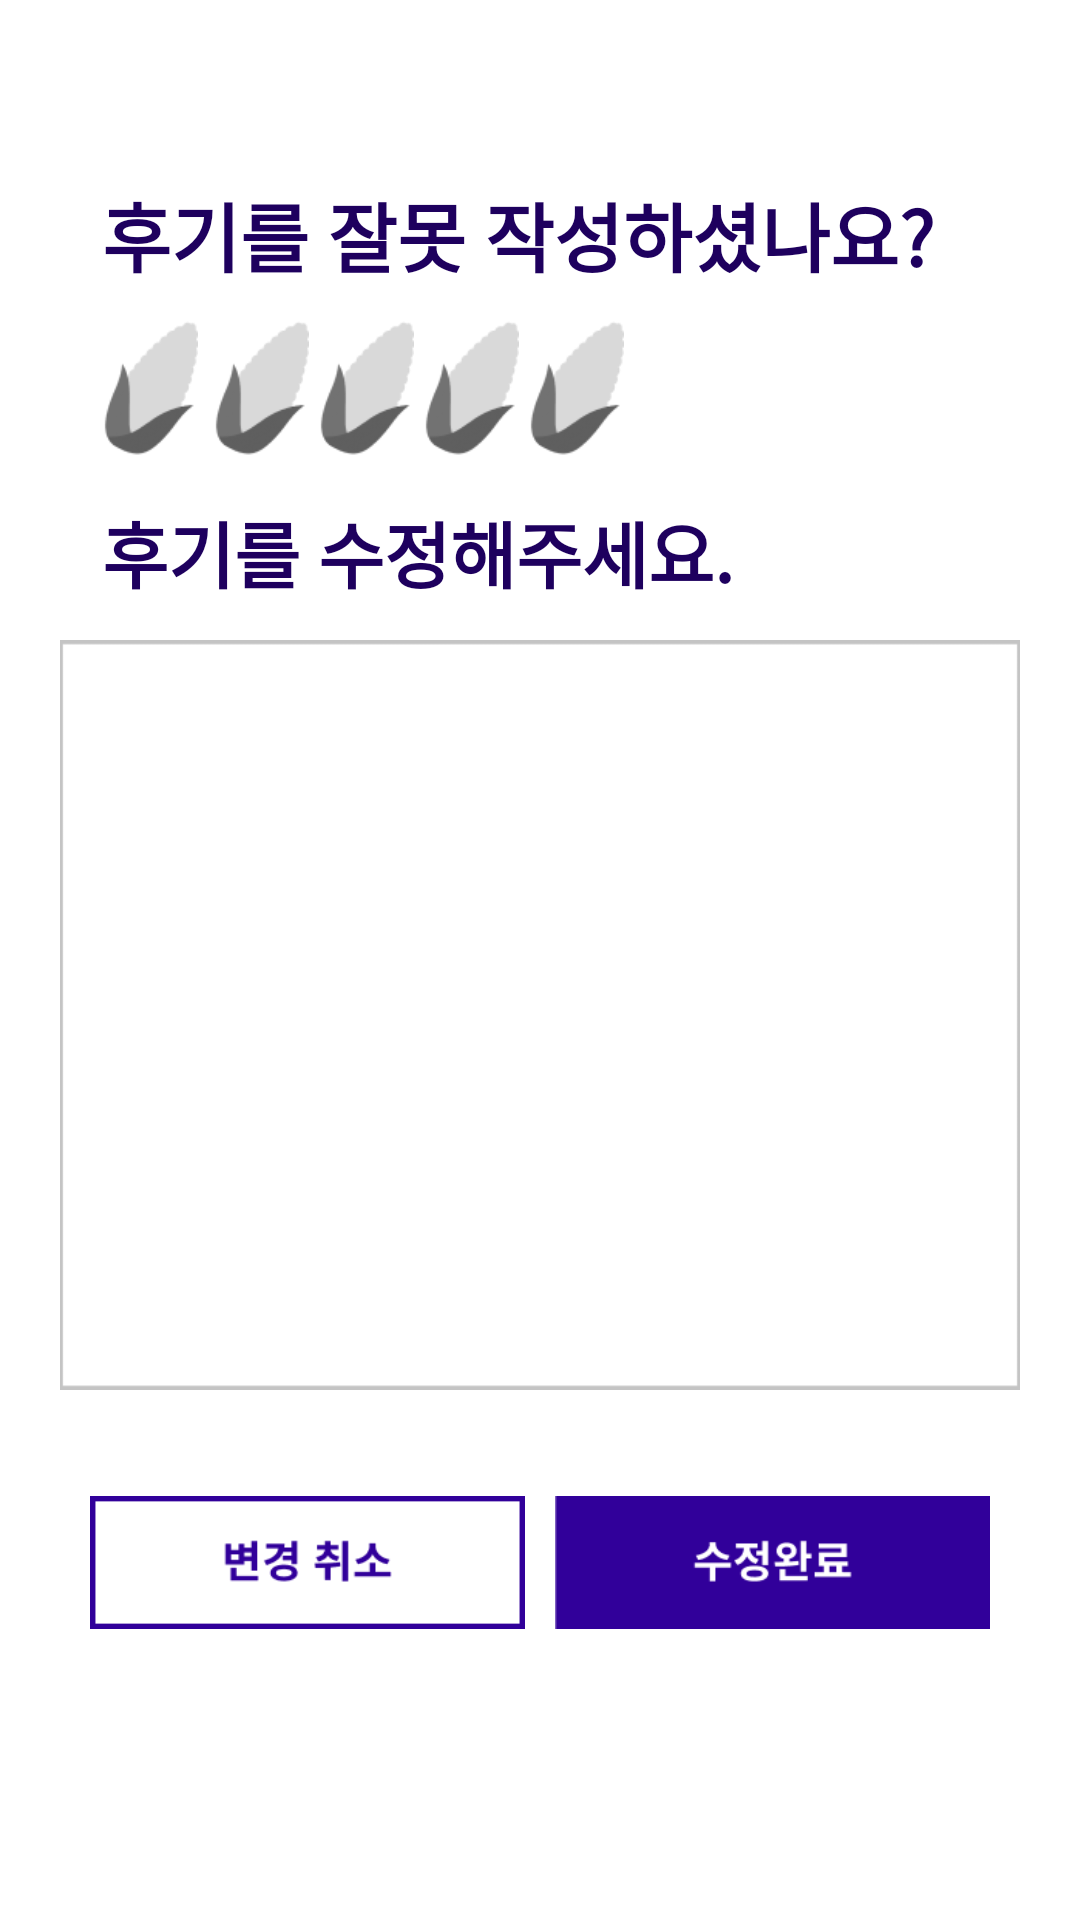

Where icons sit on this 1080px x 1920px app screen, as Rect(x1, y1, x2, y2):
comment corn: Rect(105, 323, 198, 455), Rect(216, 323, 309, 455), Rect(321, 323, 414, 455), Rect(426, 323, 519, 455), Rect(531, 323, 624, 455)
